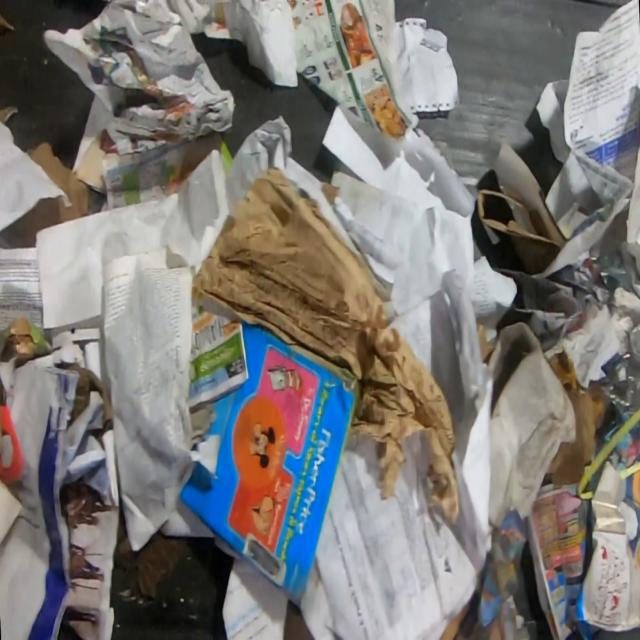cardboard: (476, 140, 570, 276), (0, 142, 108, 248)
rigid_plastic: (600, 352, 639, 423)
